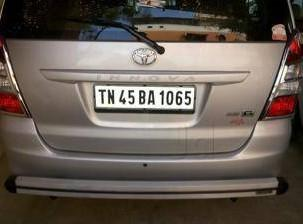License-Plate: (92, 85, 196, 113)
